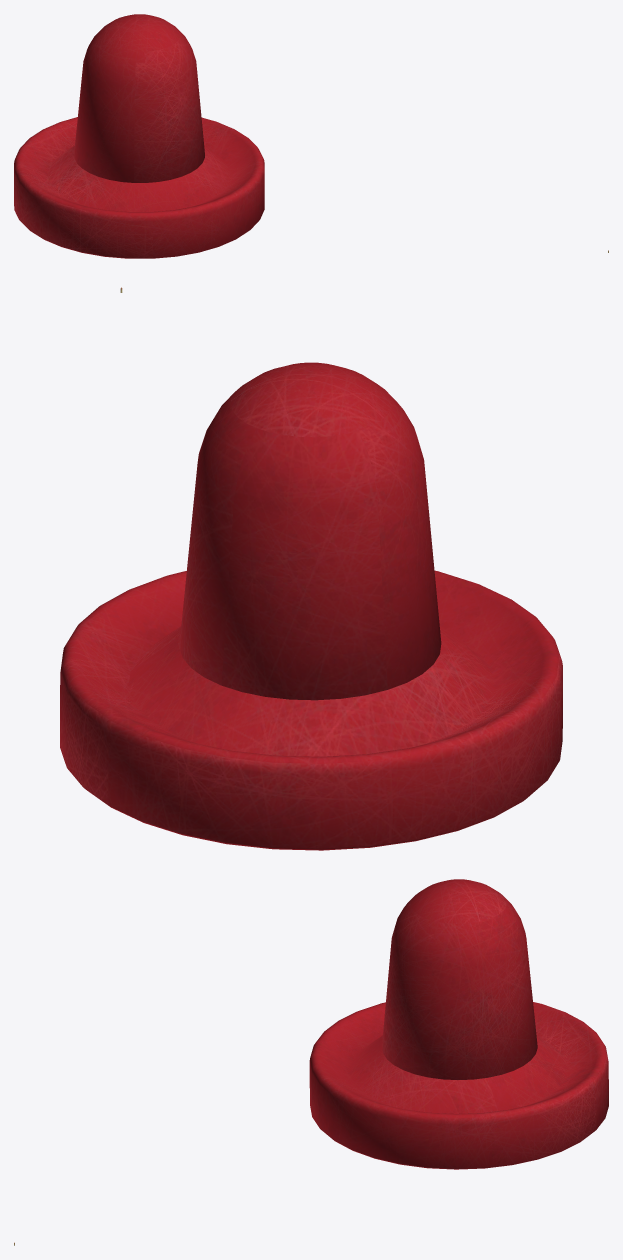
The model's file is airhockey_puck.dae.
The picture shows the model from 3 angles, top to bottom: view 1: azimuth 30°, elevation 25°; view 2: azimuth 150°, elevation 25°; view 3: azimuth 270°, elevation 25°; orthographic projection. The views are drawn at different scales.
Parts seen in each view (by area): view 1: PUCK; view 2: PUCK; view 3: PUCK.
Part boxes in pixels (x1=…): PUCK: x1=14, y1=14, x2=264, y2=258; PUCK: x1=60, y1=362, x2=562, y2=850; PUCK: x1=309, y1=879, x2=608, y2=1169.
Size of the model in its own units: 3.14 by 3.48 by 1.43.
